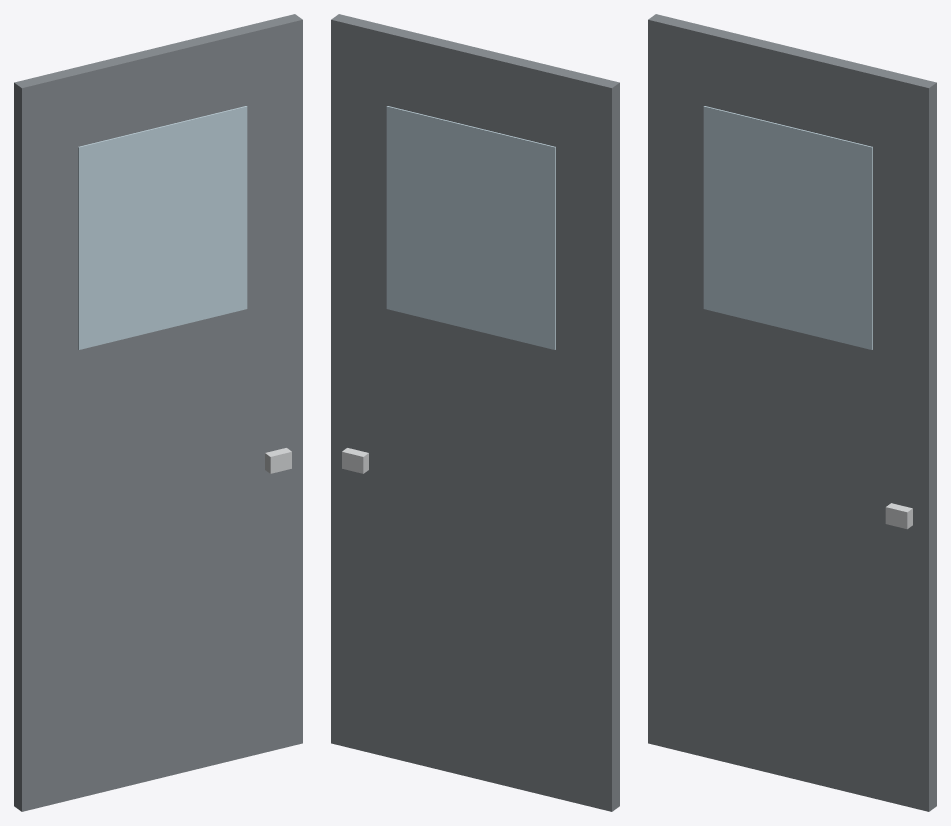
File: door_leaf_entrance.glb
The picture shows the model from 3 angles, left to right: view 1: azimuth 30°, elevation 25°; view 2: azimuth 150°, elevation 25°; view 3: azimuth 330°, elevation 25°; orthographic projection.
Visible parts, largest first — view 1: door_leaf_entrance_door, door_leaf_entrance_glass, door_leaf_entrance_metal; view 2: door_leaf_entrance_door, door_leaf_entrance_glass, door_leaf_entrance_metal; view 3: door_leaf_entrance_door, door_leaf_entrance_glass, door_leaf_entrance_metal.
Boxes of the visible parts, x1,y1,x2,y2 form: door_leaf_entrance_door: (14,14,302,811); door_leaf_entrance_glass: (78,106,247,349); door_leaf_entrance_metal: (265,448,291,473); door_leaf_entrance_door: (331,14,619,811); door_leaf_entrance_glass: (386,106,555,349); door_leaf_entrance_metal: (342,448,368,473); door_leaf_entrance_door: (648,14,936,811); door_leaf_entrance_glass: (703,106,872,349); door_leaf_entrance_metal: (885,503,912,529).
Size of the model in its own units: 1.04 by 2.56 by 0.12.
